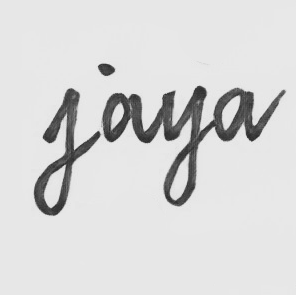a: (211, 86, 258, 146), (99, 89, 146, 145)
j: (30, 84, 82, 217)
y: (156, 83, 208, 208)
